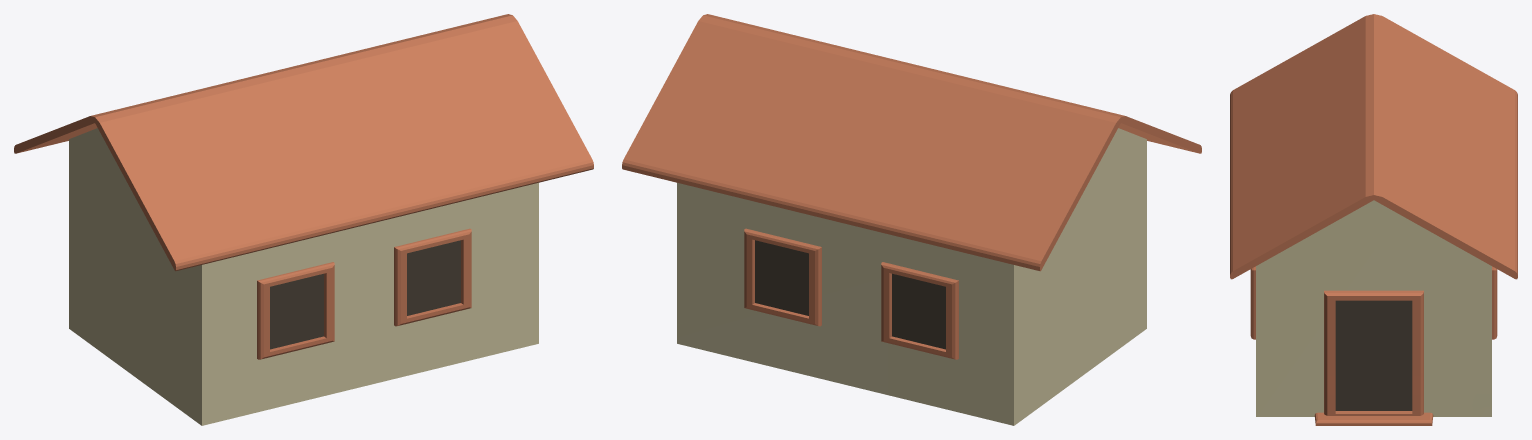
The model's file is garage.glb.
3 views of the same model, side by side, from view 1: azimuth 30°, elevation 25°; view 2: azimuth 150°, elevation 25°; view 3: azimuth 270°, elevation 25° (orthographic). The views are drawn at different scales.
Parts seen in each view (by area): view 1: Cube.092_Material.001_0; view 2: Cube.092_Material.001_0; view 3: Cube.092_Material.001_0.
Boxes of the visible parts, left/top/right/bottom form: Cube.092_Material.001_0: left=14, top=14, right=593, bottom=425; Cube.092_Material.001_0: left=622, top=14, right=1201, bottom=425; Cube.092_Material.001_0: left=1230, top=14, right=1517, bottom=425.
Bounding box in the file's own units: 1 × 0.6189 × 0.6735.
1 material, 1 textured.
